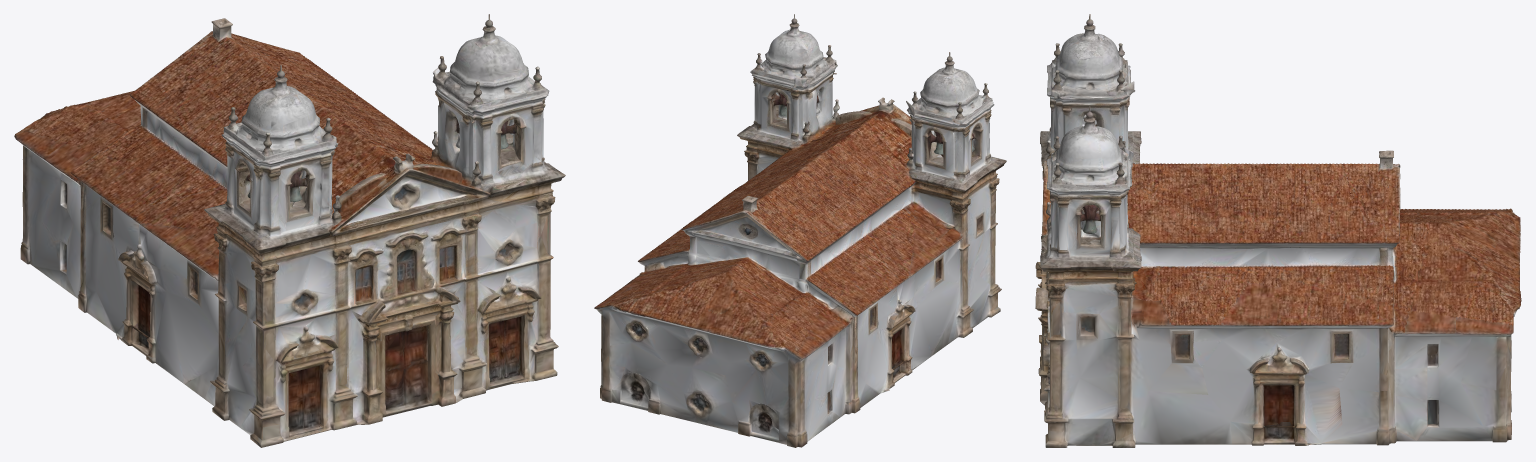
File: basilica.glb
3 views of the same model, side by side, from view 1: azimuth 30°, elevation 25°; view 2: azimuth 150°, elevation 25°; view 3: azimuth 270°, elevation 25° (orthographic). The views are drawn at different scales.
Parts seen in each view (by area): view 1: Mesh_0; view 2: Mesh_0; view 3: Mesh_0.
Part boxes in pixels (left/top/right/bottom): Mesh_0: left=14, top=14, right=565, bottom=447; Mesh_0: left=594, top=14, right=1006, bottom=447; Mesh_0: left=1035, top=14, right=1521, bottom=447.
Bounding box in the file's own units: 1.27 × 1.39 × 1.9.
Materials: 1 (1 with a texture image).
